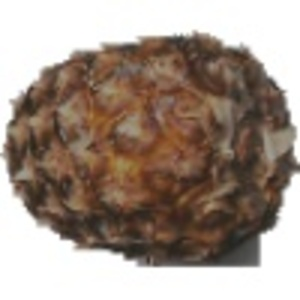abacaxi: (3, 30, 292, 249)
